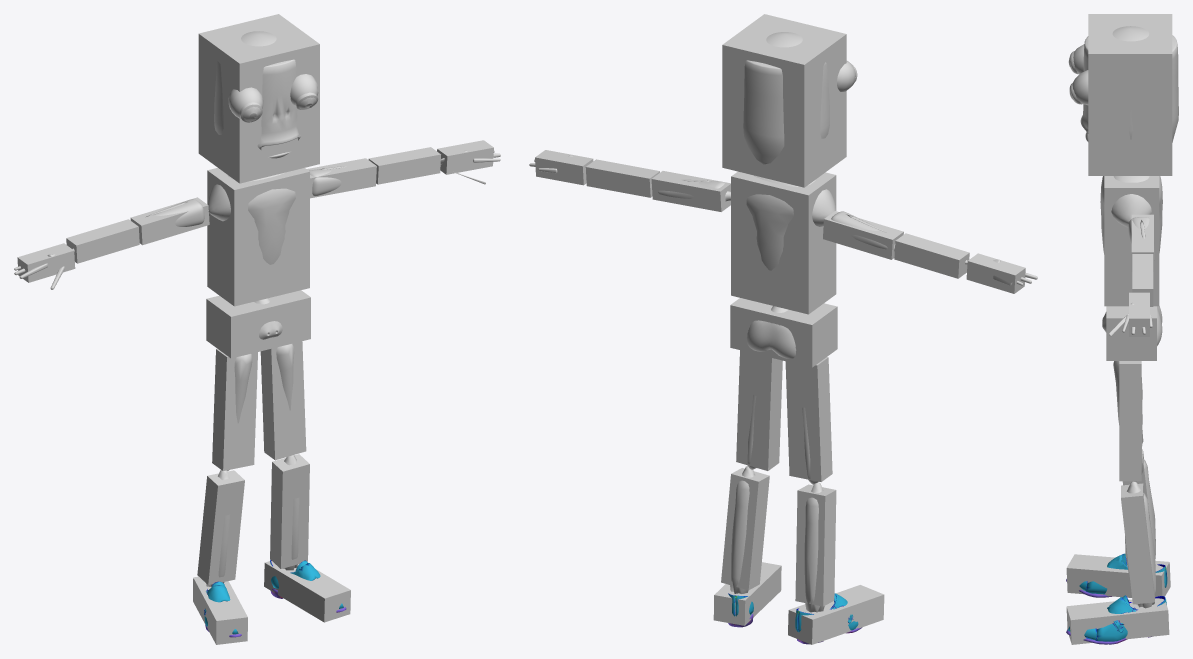
Rendered from ROBOTLOPOLYCOL14.glb.
3 renders of one model, left to right at view 1: azimuth 30°, elevation 25°; view 2: azimuth 150°, elevation 25°; view 3: azimuth 270°, elevation 25°, orthographic. The views are drawn at different scales.
Parts seen in each view (by area): view 1: RAGDOLL.HEAD, RAGDOLL.UPPERBODY, RAGDOLL.HIPS, RAGDOLL.UPPERLEG.R, RAGDOLL.UPPERLEG.L, HEAD, RAGDOLL.LOWERLEG.R, RAGDOLL.LOWERLEG.L, UPPERBODY, RAGDOLL.SHOE.L, RAGDOLL.SHOE.R, RAGDOLL.LOWERARM.R (+10 smaller); view 2: RAGDOLL.HEAD, RAGDOLL.UPPERBODY, RAGDOLL.UPPERLEG.R, HEAD, RAGDOLL.UPPERLEG.L, RAGDOLL.HIPS, RAGDOLL.LOWERLEG.R, RAGDOLL.LOWERLEG.L, RAGDOLL.SHOE.R, UPPERBODY, RAGDOLL.SHOE.L, RAGDOLL.LOWERARM.R (+8 smaller); view 3: RAGDOLL.HEAD, RAGDOLL.UPPERBODY, RAGDOLL.SHOE.L, RAGDOLL.UPPERLEG.L, RAGDOLL.LOWERLEG.L, RAGDOLL.SHOE.R, RAGDOLL.HIPS, HEAD, UPPERBODY, SHOE.L, RAGDOLL.LOWERARM.L, RAGDOLL.HAND.L (+10 smaller).
Boxes of the visible parts, x1,y1,x2,y2 form: RAGDOLL.HEAD: (198, 14, 319, 183); RAGDOLL.UPPERBODY: (207, 167, 309, 306); RAGDOLL.HIPS: (206, 290, 310, 358); RAGDOLL.UPPERLEG.R: (212, 349, 257, 470); RAGDOLL.UPPERLEG.L: (260, 341, 306, 460); HEAD: (214, 31, 301, 158); RAGDOLL.LOWERLEG.R: (197, 470, 244, 584); RAGDOLL.LOWERLEG.L: (270, 454, 309, 568); UPPERBODY: (207, 172, 295, 264); RAGDOLL.SHOE.L: (264, 561, 350, 622); RAGDOLL.SHOE.R: (193, 576, 247, 644); RAGDOLL.LOWERARM.R: (66, 219, 139, 263); RAGDOLL.HEAD: (722, 14, 846, 187); RAGDOLL.UPPERBODY: (731, 171, 836, 314); RAGDOLL.UPPERLEG.R: (785, 357, 832, 481); HEAD: (743, 32, 829, 164); RAGDOLL.UPPERLEG.L: (736, 350, 782, 470); RAGDOLL.HIPS: (730, 298, 837, 367); RAGDOLL.LOWERLEG.R: (795, 484, 836, 606); RAGDOLL.LOWERLEG.L: (721, 468, 769, 590); RAGDOLL.SHOE.R: (788, 585, 884, 644); UPPERBODY: (746, 175, 836, 270); RAGDOLL.SHOE.L: (713, 562, 781, 625); RAGDOLL.LOWERARM.R: (894, 233, 969, 278); RAGDOLL.HEAD: (1088, 14, 1172, 175); RAGDOLL.UPPERBODY: (1104, 176, 1159, 306); RAGDOLL.SHOE.L: (1066, 598, 1169, 644); RAGDOLL.UPPERLEG.L: (1119, 361, 1141, 481); RAGDOLL.LOWERLEG.L: (1121, 483, 1154, 604); RAGDOLL.SHOE.R: (1066, 554, 1170, 597); RAGDOLL.HIPS: (1106, 306, 1156, 360); HEAD: (1080, 26, 1178, 142); UPPERBODY: (1100, 176, 1162, 254); SHOE.L: (1066, 595, 1166, 644); RAGDOLL.LOWERARM.L: (1132, 254, 1153, 306); RAGDOLL.HAND.L: (1129, 292, 1149, 336).
Size of the model in its own units: 1.81 by 2.05 by 0.3572.
